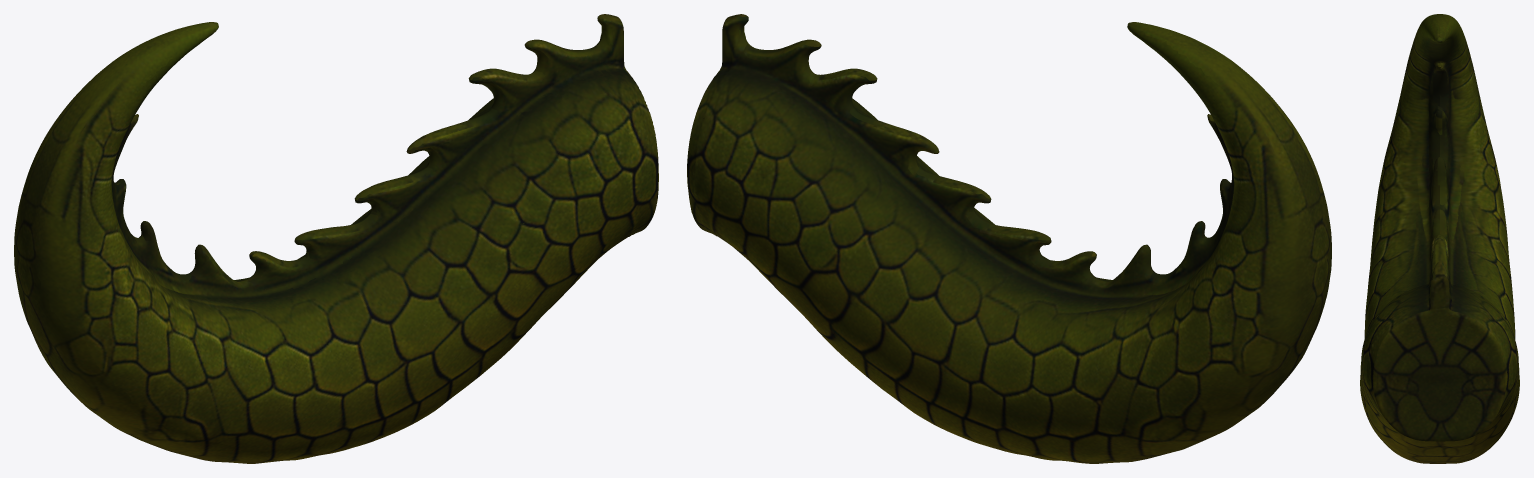
Rendered from dragontail.fbx.
3 renders of one model, left to right at view 1: azimuth 30°, elevation 25°; view 2: azimuth 150°, elevation 25°; view 3: azimuth 270°, elevation 25°, orthographic. The views are drawn at different scales.
Visible parts, largest first — view 1: node_413c60f5_7f26_43e9_890b_db1598480274_mesh0; view 2: node_413c60f5_7f26_43e9_890b_db1598480274_mesh0; view 3: node_413c60f5_7f26_43e9_890b_db1598480274_mesh0.
Part boxes in pixels (x1,y1,x2,y2): node_413c60f5_7f26_43e9_890b_db1598480274_mesh0: [14, 14, 658, 463]; node_413c60f5_7f26_43e9_890b_db1598480274_mesh0: [687, 14, 1331, 463]; node_413c60f5_7f26_43e9_890b_db1598480274_mesh0: [1360, 14, 1519, 463].
Size of the model in its own units: 196 by 141 by 55.74.
1 material, 1 textured.
